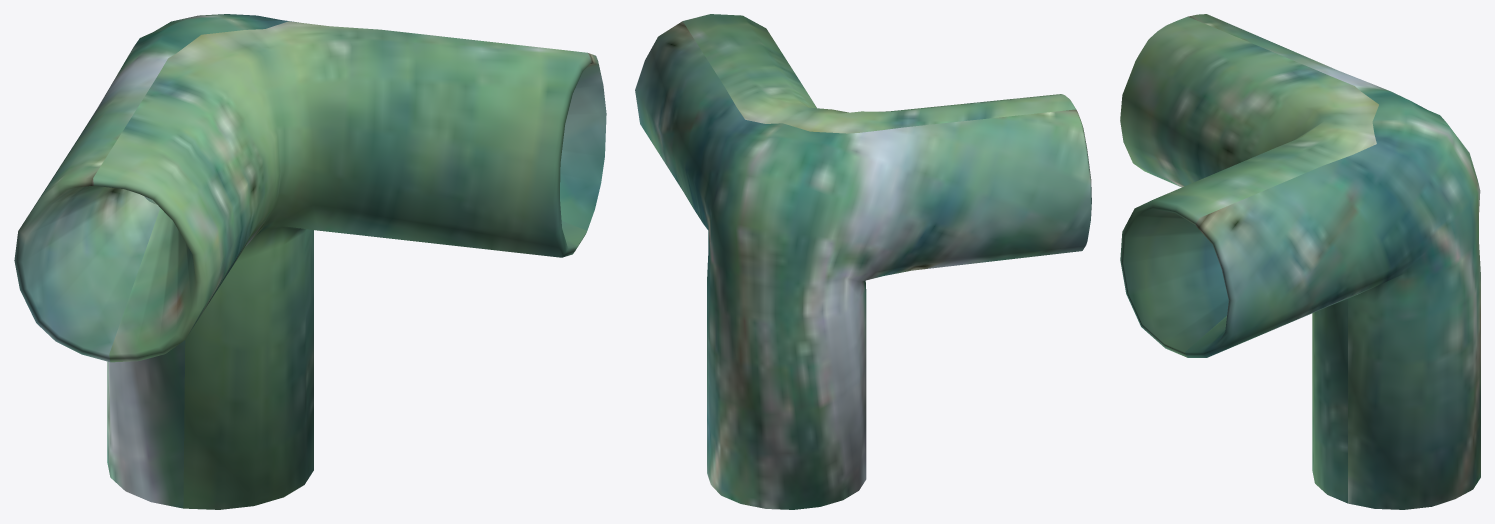
Rendered from Pipe07-model.fbx.
3 renders of one model, left to right at view 1: azimuth 30°, elevation 25°; view 2: azimuth 150°, elevation 25°; view 3: azimuth 270°, elevation 25°, orthographic. The views are drawn at different scales.
Parts seen in each view (by area): view 1: T_elbow; view 2: T_elbow; view 3: T_elbow.
Boxes of the visible parts, x1,y1,x2,y2 form: T_elbow: [14, 14, 606, 509]; T_elbow: [635, 14, 1091, 509]; T_elbow: [1120, 14, 1480, 509].
Bounding box in the file's own units: 11.64 × 8.45 × 7.56.
Materials: 1 (1 with a texture image).
